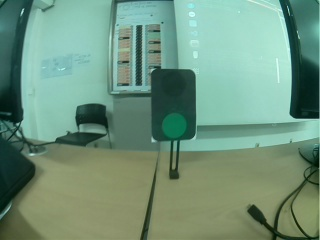green_light: (152, 72, 191, 142)
